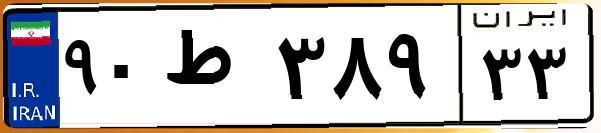0: (110, 28, 158, 98)
3: (270, 28, 330, 110), (475, 38, 525, 113), (525, 38, 570, 115)
8: (330, 28, 385, 110)
9: (385, 28, 445, 110), (57, 26, 110, 100)
ط: (158, 20, 270, 120)
